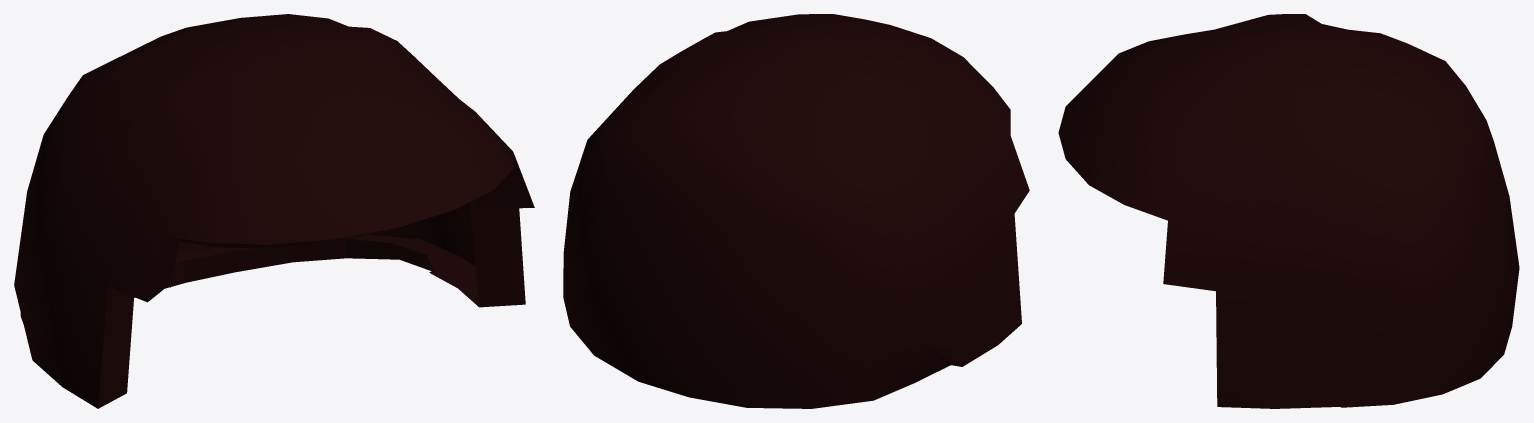
File: Basic_Dude_Hair_Longer.fbx
3 views of the same model, side by side, from view 1: azimuth 30°, elevation 25°; view 2: azimuth 150°, elevation 25°; view 3: azimuth 270°, elevation 25° (orthographic). The views are drawn at different scales.
Parts seen in each view (by area): view 1: Simple_Hair; view 2: Simple_Hair; view 3: Simple_Hair.
Boxes of the visible parts, x1,y1,x2,y2 form: Simple_Hair: (14,14,534,408); Simple_Hair: (563,14,1029,408); Simple_Hair: (1058,14,1519,408).
Size of the model in its own units: 21.8 by 14.72 by 21.52.
